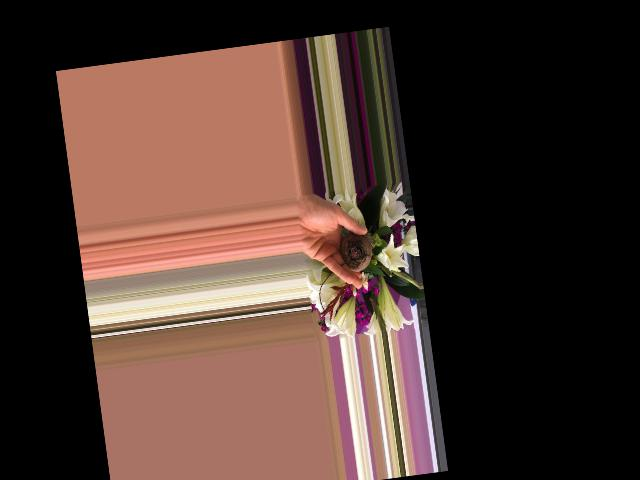beet: (337, 230, 374, 274)
